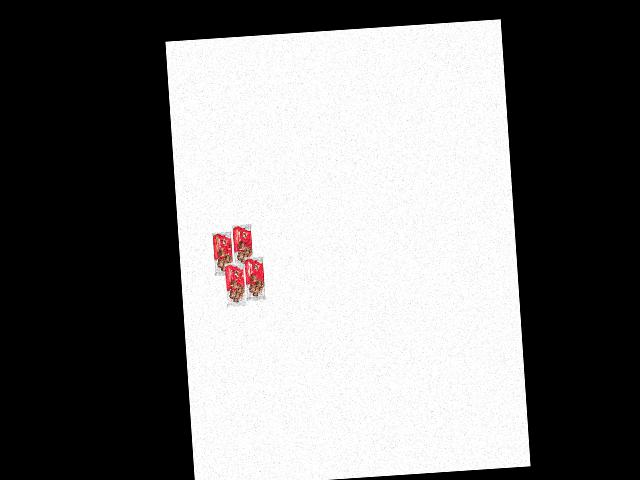chocolate: (209, 227, 238, 279)
